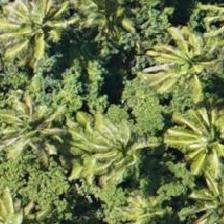coconut_tree: (118, 11, 208, 101), (68, 105, 158, 195), (0, 92, 77, 182), (6, 0, 96, 71), (157, 92, 223, 182), (173, 154, 223, 223)
